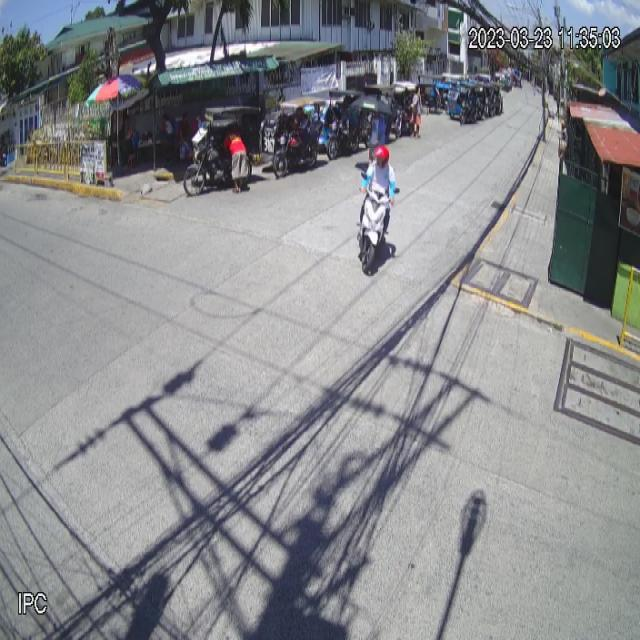Motorcycle: (356, 170, 401, 276)
